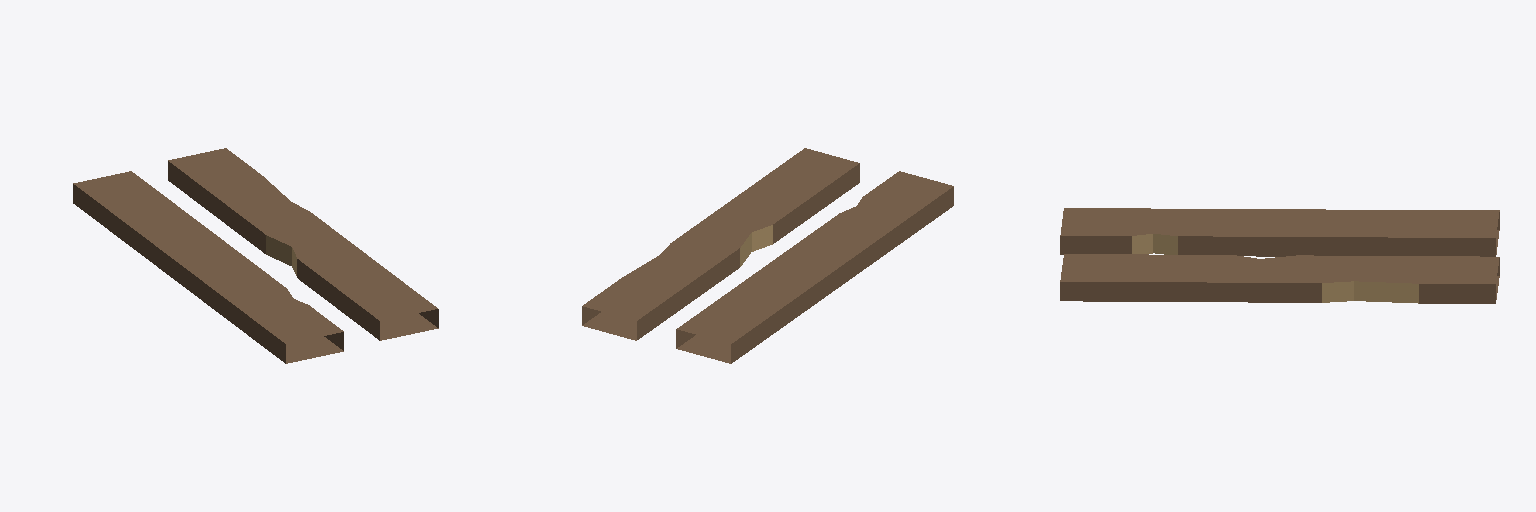
Rendered from Cave_Prop_Support_Ceiling_Boards_2.obj.
The picture shows the model from 3 angles: view 1: azimuth 30°, elevation 25°; view 2: azimuth 150°, elevation 25°; view 3: azimuth 270°, elevation 25°; orthographic projection.
Visible parts, largest first — view 1: object1, object2; view 2: object1, object2; view 3: object2, object1.
Part boxes in pixels (x1,y1,x2,y2): object1: (73, 171, 343, 363); object2: (168, 148, 438, 340); object1: (676, 171, 953, 363); object2: (582, 148, 859, 340); object2: (1060, 254, 1499, 303); object1: (1060, 208, 1499, 256).
Size of the model in its own units: 0.8277 by 0.1 by 2.02.